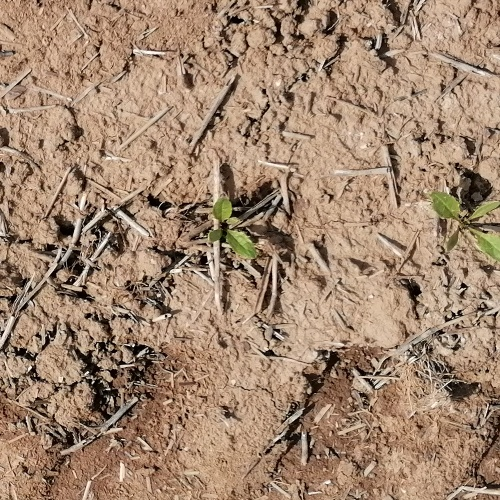beet: (431, 192, 500, 262), (206, 195, 256, 259)
